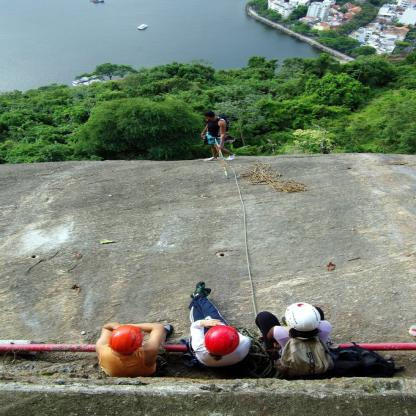Helmet: (285, 310, 331, 344), (202, 324, 248, 357), (110, 321, 143, 358)
